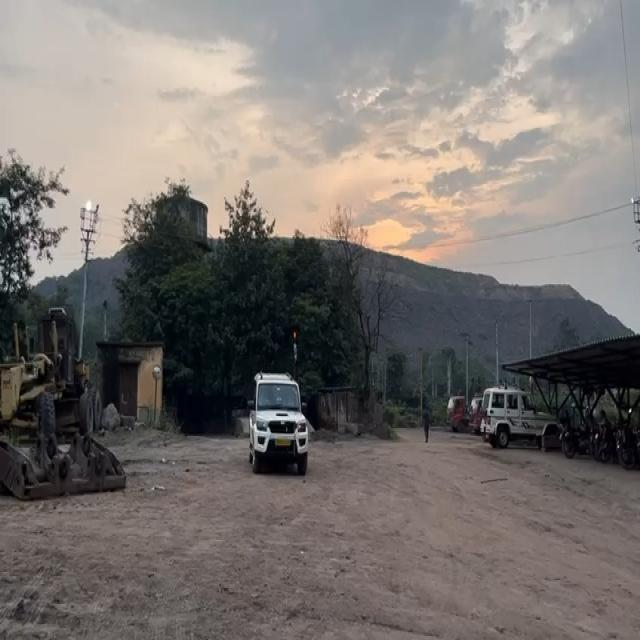light_vehicle: (250, 372, 310, 476), (481, 389, 553, 450)
